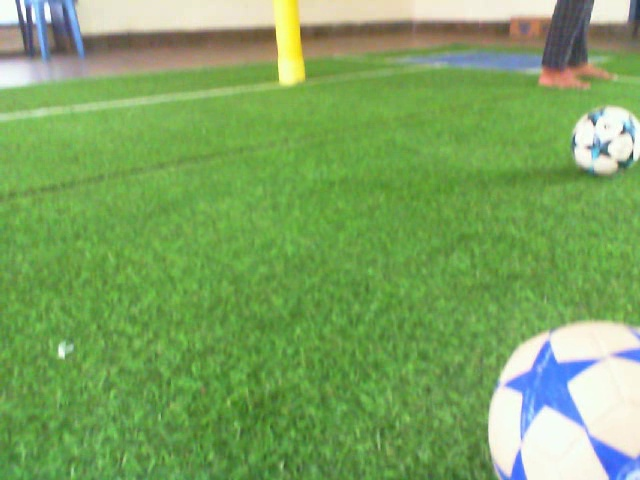ball: (485, 318, 640, 480), (569, 104, 640, 180)
